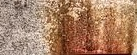Corrosion: (44, 1, 137, 55)
